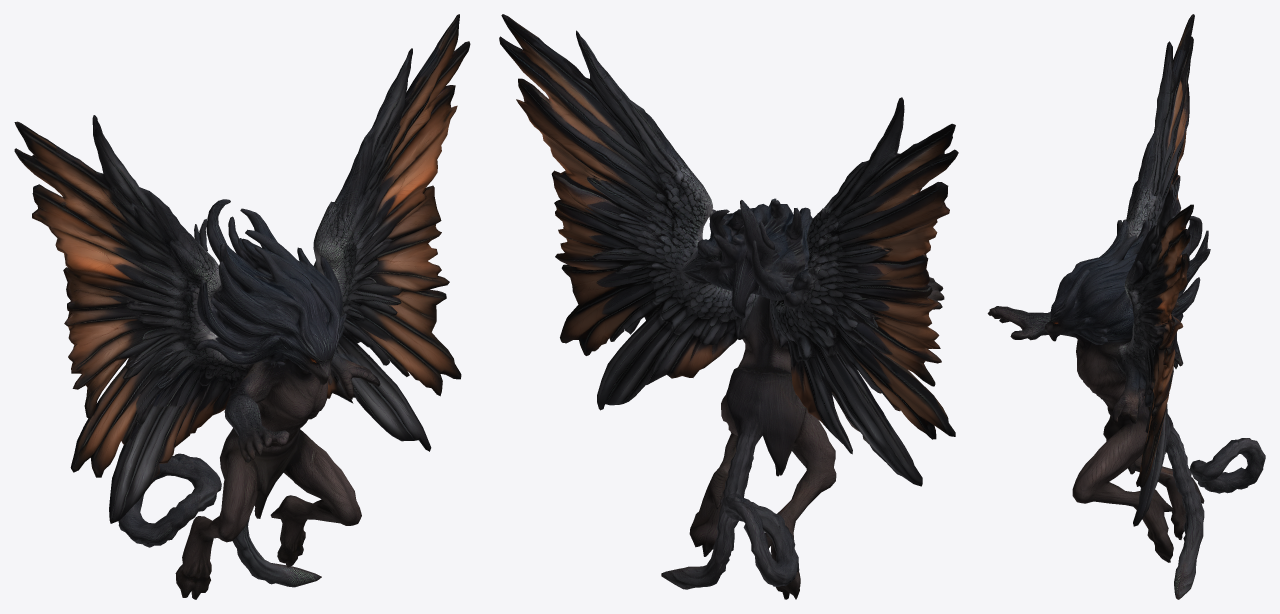
File: harpie-lady.glb
3 views of the same model, side by side, from view 1: azimuth 30°, elevation 25°; view 2: azimuth 150°, elevation 25°; view 3: azimuth 270°, elevation 25° (orthographic). The views are drawn at different scales.
Bounding box in the file's own units: 1.71 × 1.9 × 1.03.
Materials: 1 (1 with a texture image).
